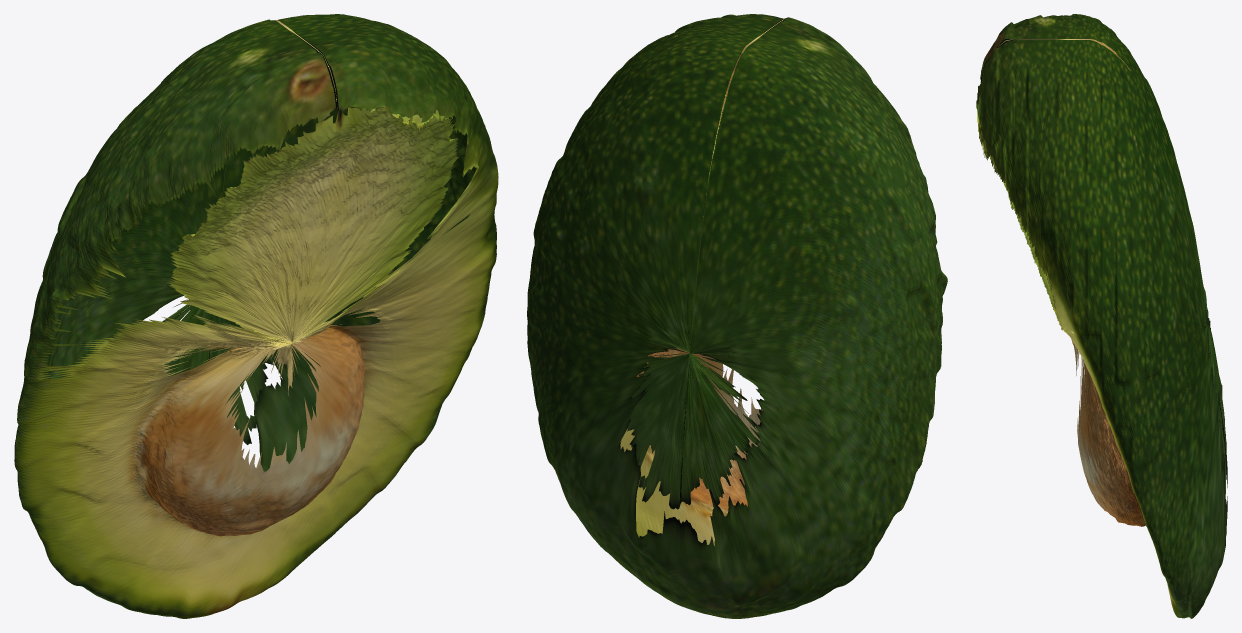
3 views of the same model, side by side, from view 1: azimuth 30°, elevation 25°; view 2: azimuth 150°, elevation 25°; view 3: azimuth 270°, elevation 25° (orthographic). The views are drawn at different scales.
Visible parts, largest first — view 1: geometry_0; view 2: geometry_0; view 3: geometry_0.
Boxes of the visible parts, x1,y1,x2,y2 form: geometry_0: (14, 14, 498, 618); geometry_0: (527, 14, 947, 618); geometry_0: (976, 14, 1227, 618).
Size of the model in its own units: 1.58 by 2 by 0.7984.
Materials: 1 (1 with a texture image).
